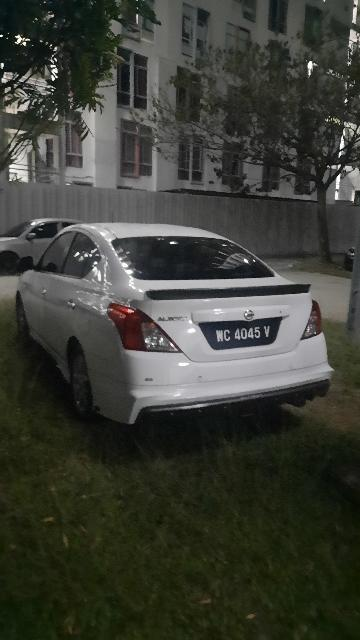License_Plate: (193, 316, 288, 352)
car: (13, 221, 357, 435)
